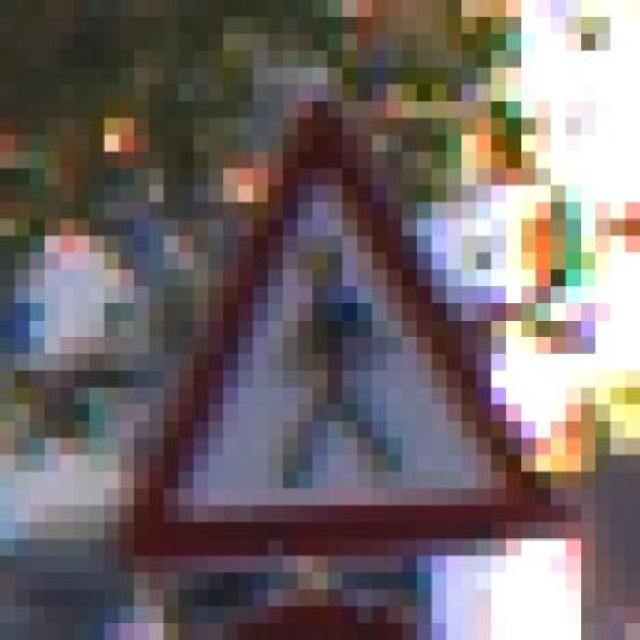Pedestrian Crossing: (119, 84, 581, 573)
